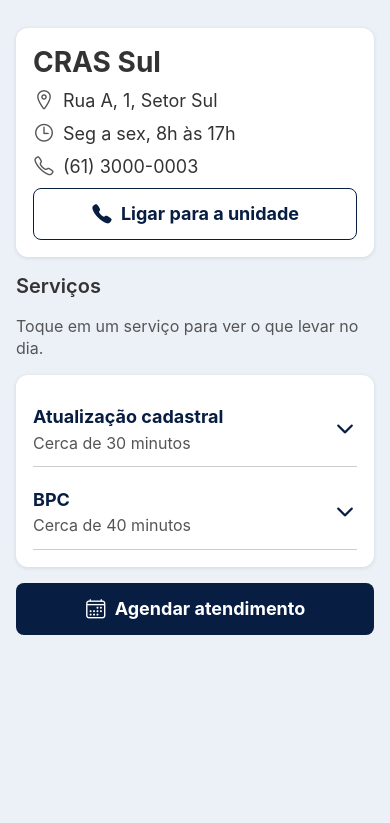
Test: Entrar na fila pela unidade (RF08) › quem já tem senha ativa vê o aviso da API (uma senha por pessoa)
The width and height of the screenshot is (390, 823).
Click the button "Atualização cadastral Cerca de 30 minutos" at (195, 429), box x1=33 y1=392 x2=357 y2=466
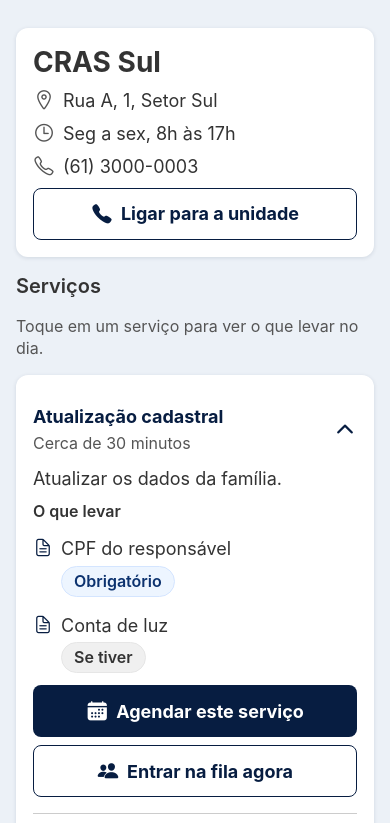
Click the button with aria-label "Entrar agora na fila de Atualização cadastral" at (195, 771), box x1=33 y1=745 x2=357 y2=797
(page scrolled)
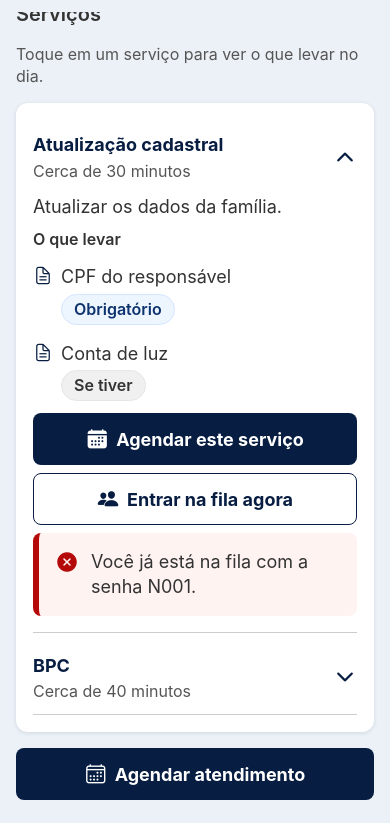
Expected: the text "Você já está na fila com a senha N001." is shown, x1=91 y1=549 x2=341 y2=600
